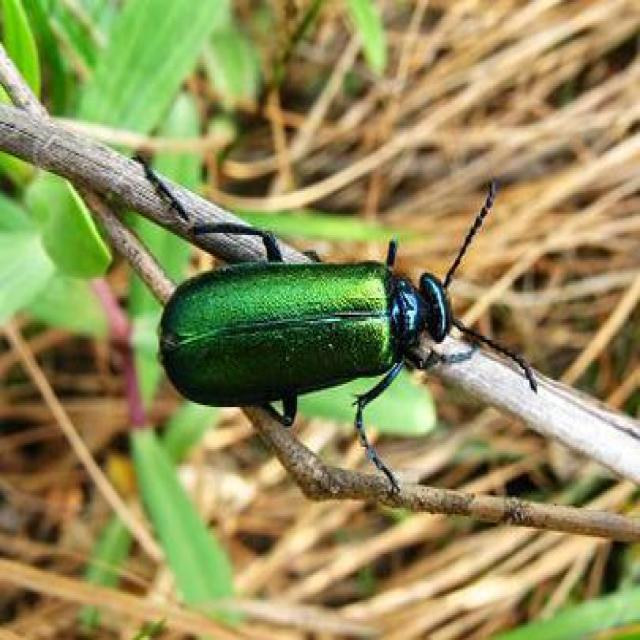BlisterBeetle-Adult-: (100, 166, 579, 518)
